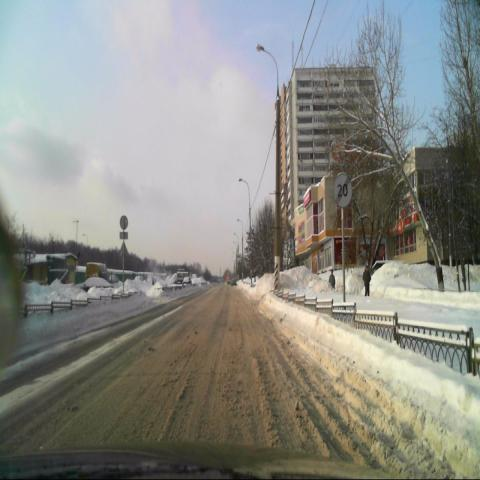3_25: (333, 172, 352, 208)
